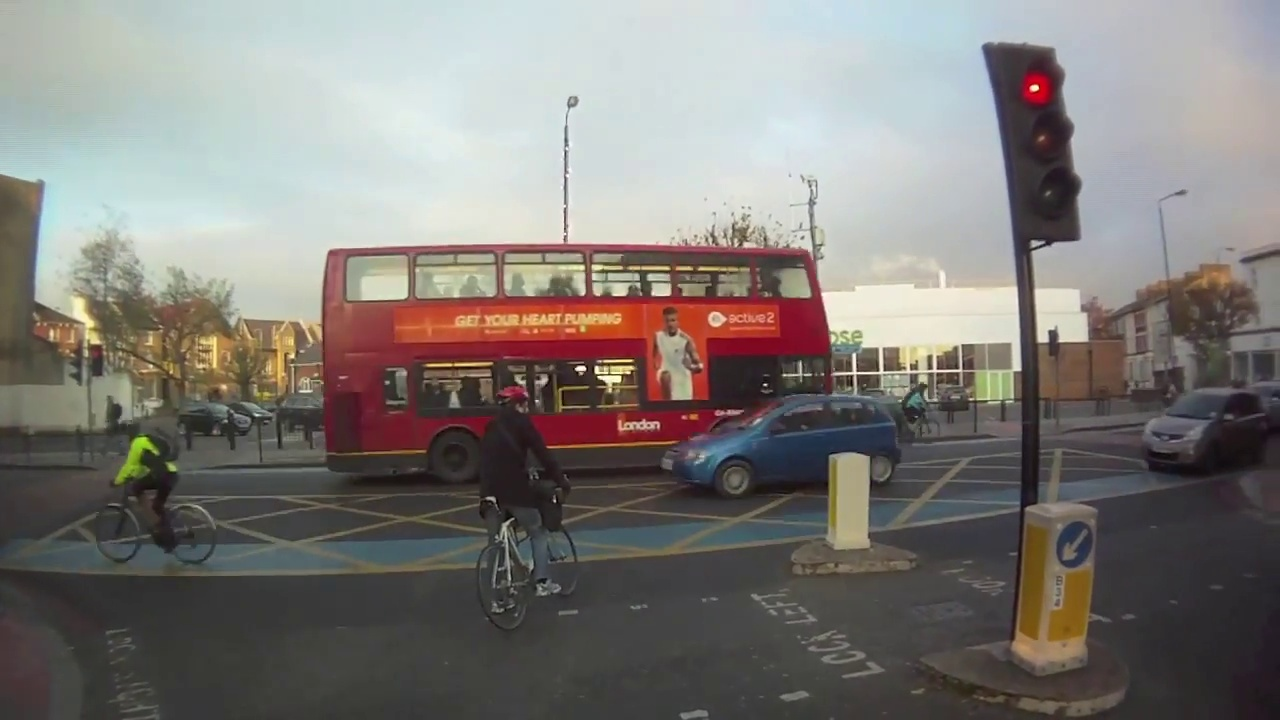cyclist_back: (472, 374, 587, 633)
cyclist_side: (90, 419, 222, 567), (898, 383, 945, 440)
